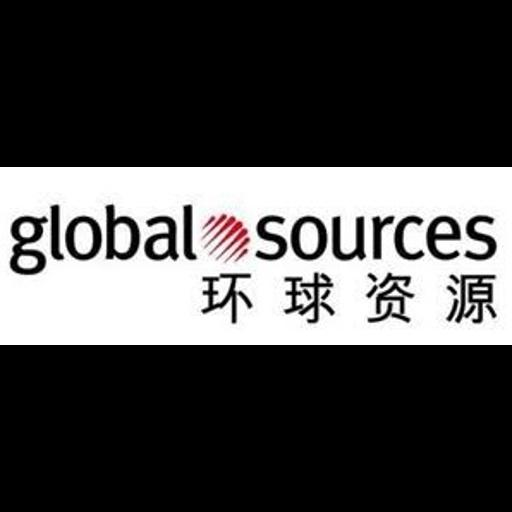Global Sources HK: (0, 167, 512, 345)
